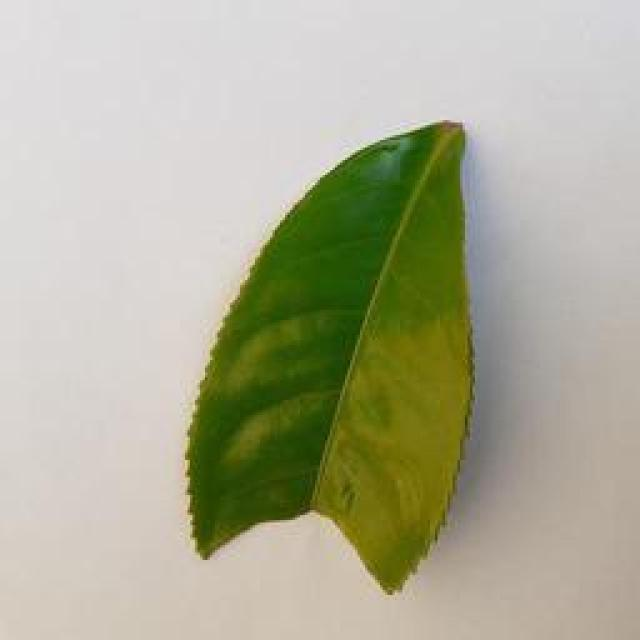Healthy: (177, 85, 498, 604)
